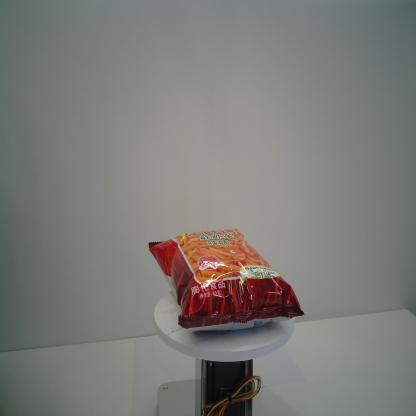Puffed Food: (148, 227, 306, 334)
